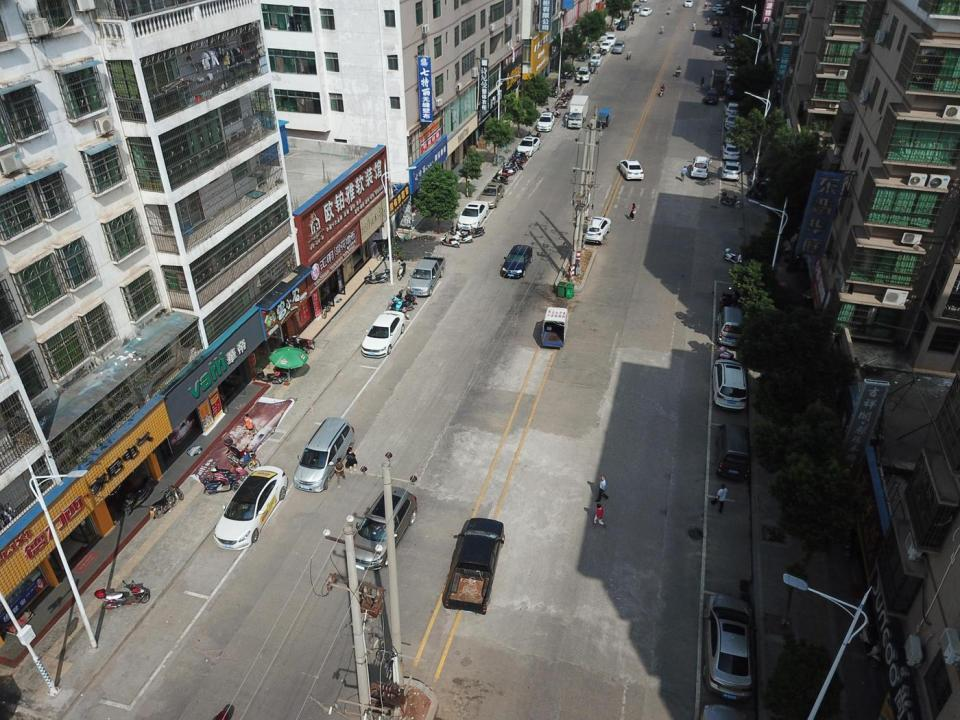car: (212, 466, 288, 550), (704, 592, 754, 702), (352, 487, 418, 569), (362, 311, 405, 358), (713, 359, 748, 410), (500, 245, 532, 278), (457, 200, 489, 232), (584, 216, 611, 244), (479, 182, 505, 208), (619, 160, 644, 180), (516, 136, 540, 156), (722, 161, 741, 182), (536, 112, 554, 132), (722, 143, 741, 161), (724, 114, 740, 131), (576, 66, 590, 82), (704, 90, 719, 104), (611, 41, 625, 54), (725, 130, 738, 144), (590, 53, 602, 66), (725, 86, 738, 98), (728, 73, 739, 87), (714, 42, 726, 54), (616, 19, 629, 30), (599, 41, 611, 52), (729, 38, 738, 52), (606, 34, 617, 45), (712, 25, 723, 36), (727, 60, 738, 70), (726, 50, 735, 62), (594, 34, 609, 41), (640, 8, 652, 16), (717, 7, 730, 14), (684, 0, 693, 8), (729, 30, 738, 38), (712, 4, 723, 10)
truck: (444, 518, 505, 616), (407, 252, 446, 297), (569, 95, 588, 128), (710, 70, 727, 93)
van: (294, 417, 355, 492), (717, 424, 751, 480), (719, 307, 743, 348), (691, 156, 713, 180), (726, 102, 741, 119), (632, 2, 641, 13)
